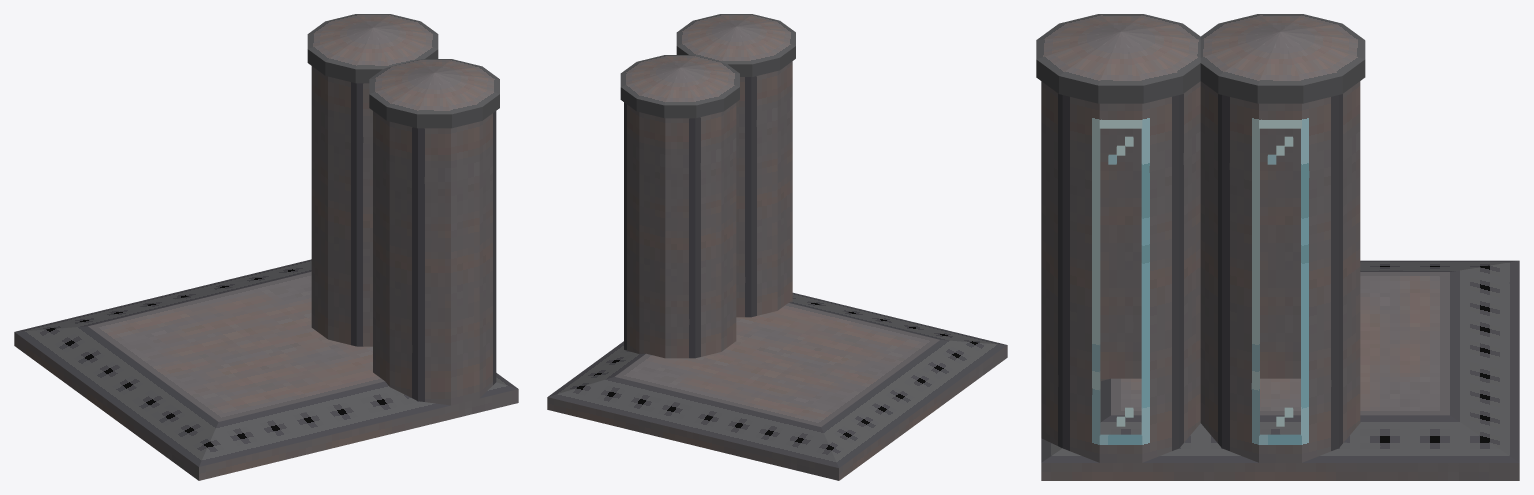
The model's file is chemplant.obj.
3 views of the same model, side by side, from view 1: azimuth 30°, elevation 25°; view 2: azimuth 150°, elevation 25°; view 3: azimuth 270°, elevation 25° (orthographic). The views are drawn at different scales.
Visible parts, largest first — view 1: slanted, tank1, tank2, tank1_cap, baseplate, tank2_cap; view 2: slanted, tank2, tank1, tank2_cap, baseplate, tank1_cap; view 3: tank2, tank1, slanted, tank2_cap, tank1_cap, baseplate.
Boxes of the visible parts, x1=… form: slanted: x1=15, y1=259, x2=517, y2=466; tank1: x1=373, y1=111, x2=496, y2=405; tank2: x1=311, y1=66, x2=372, y2=346; tank1_cap: x1=369, y1=59, x2=499, y2=128; baseplate: x1=14, y1=332, x2=518, y2=480; tank2_cap: x1=307, y1=14, x2=438, y2=83; slanted: x1=548, y1=292, x2=1006, y2=467; tank2: x1=624, y1=102, x2=736, y2=358; tank1: x1=736, y1=61, x2=792, y2=317; tank2_cap: x1=620, y1=55, x2=739, y2=118; baseplate: x1=547, y1=345, x2=1007, y2=480; tank1_cap: x1=676, y1=14, x2=795, y2=76; tank2: x1=1200, y1=81, x2=1360, y2=462; tank1: x1=1041, y1=81, x2=1200, y2=462; slanted: x1=1041, y1=260, x2=1519, y2=462; tank2_cap: x1=1200, y1=14, x2=1365, y2=103; tank1_cap: x1=1036, y1=14, x2=1200, y2=103; baseplate: x1=1041, y1=463, x2=1519, y2=480.
Bounding box in the file's own units: 3.03 × 2.88 × 3.03.
